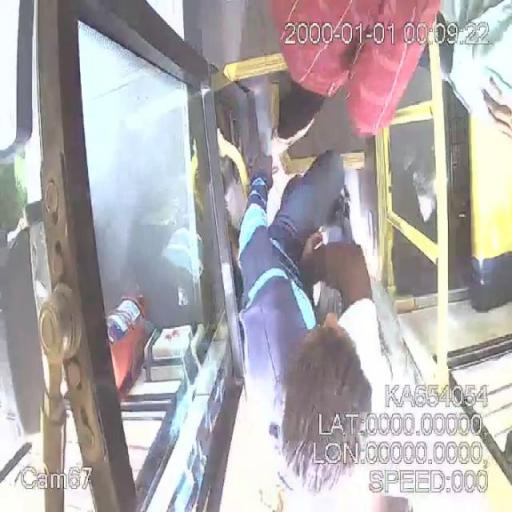persona: (234, 148, 392, 504), (266, 0, 439, 140)
